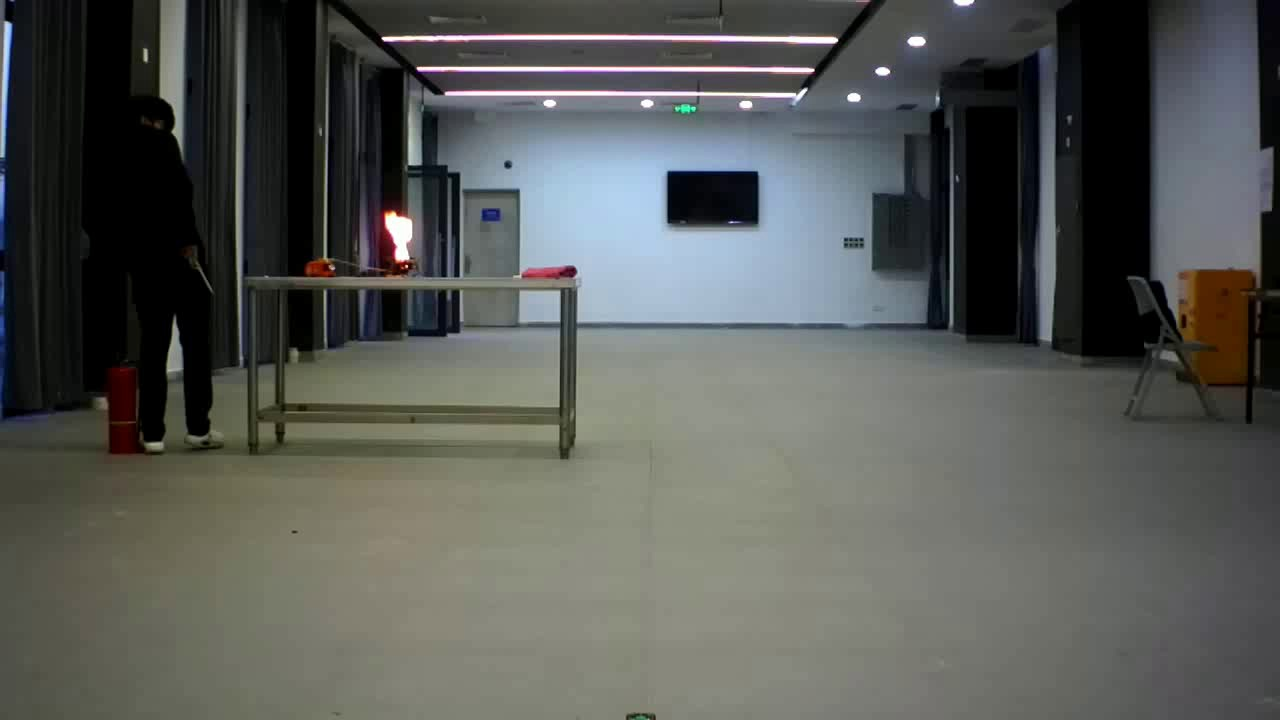Fire: (378, 196, 418, 267)
